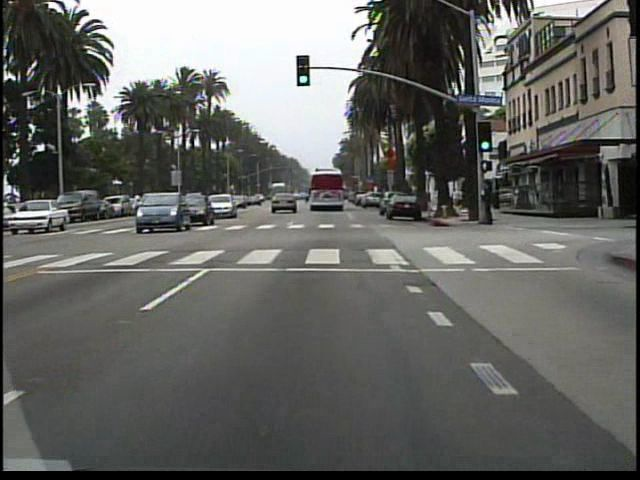person: (480, 178, 497, 229)
